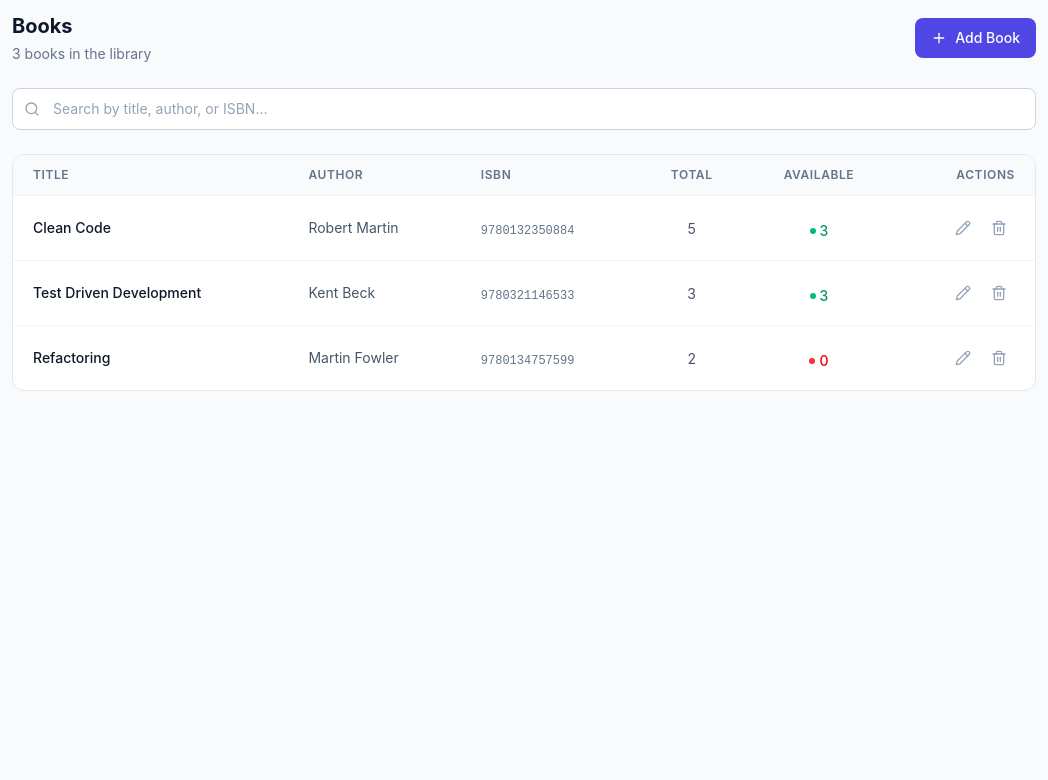
it: Books › shows error toast when delete fails
Expected: the text "Clean Code" is shown, 33,219 -> 111,236
Click the button titled "Delete book" in the row of "Clean Code" at (999, 228), box 983,212 -> 1015,244
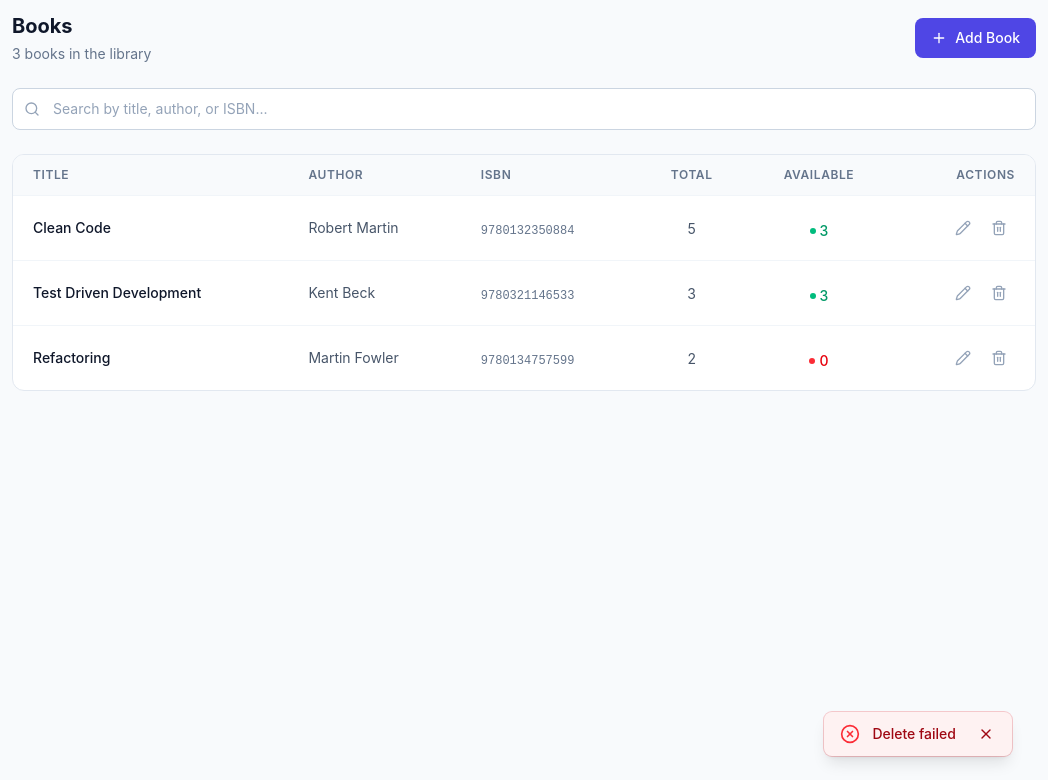
Expected: the text "Delete failed" is shown, 872,724 -> 956,744
